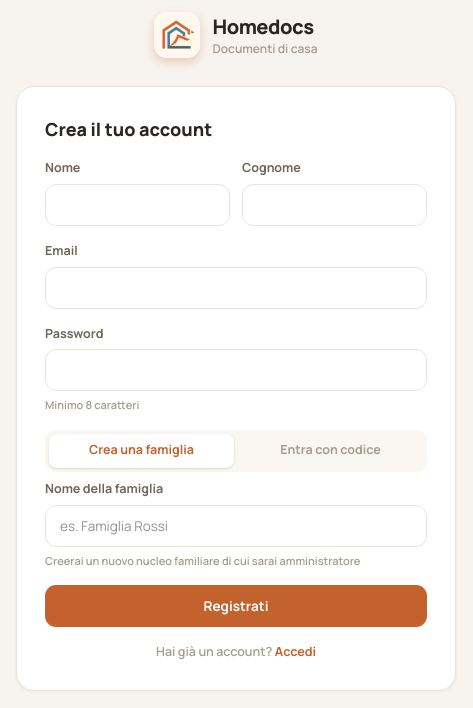
Scenario: RegisterView — toggle crea famiglia / entra con codice › passa a "Codice invito" e nasconde "Nome della famiglia" cliccando "Entra con codice"
Click the button "Entra con codice".
click(330, 451)  # box top-left (238, 434), bottom-right (423, 468)
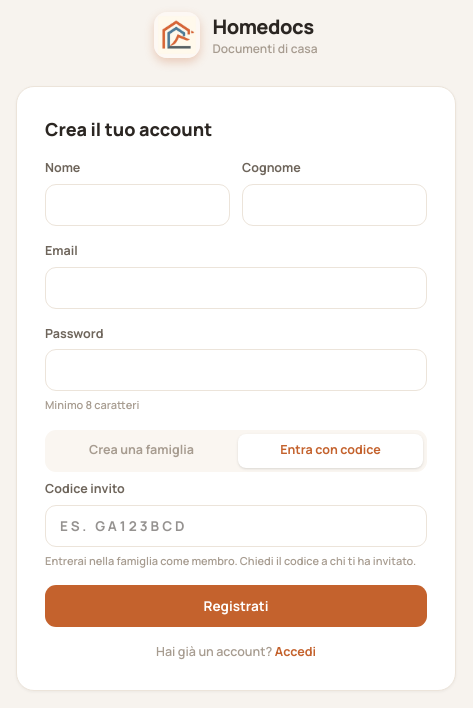
Expected: the text "Codice invito" is shown, top-left (45, 480), bottom-right (125, 497)
Expected: the text "Nome della famiglia" is gone
